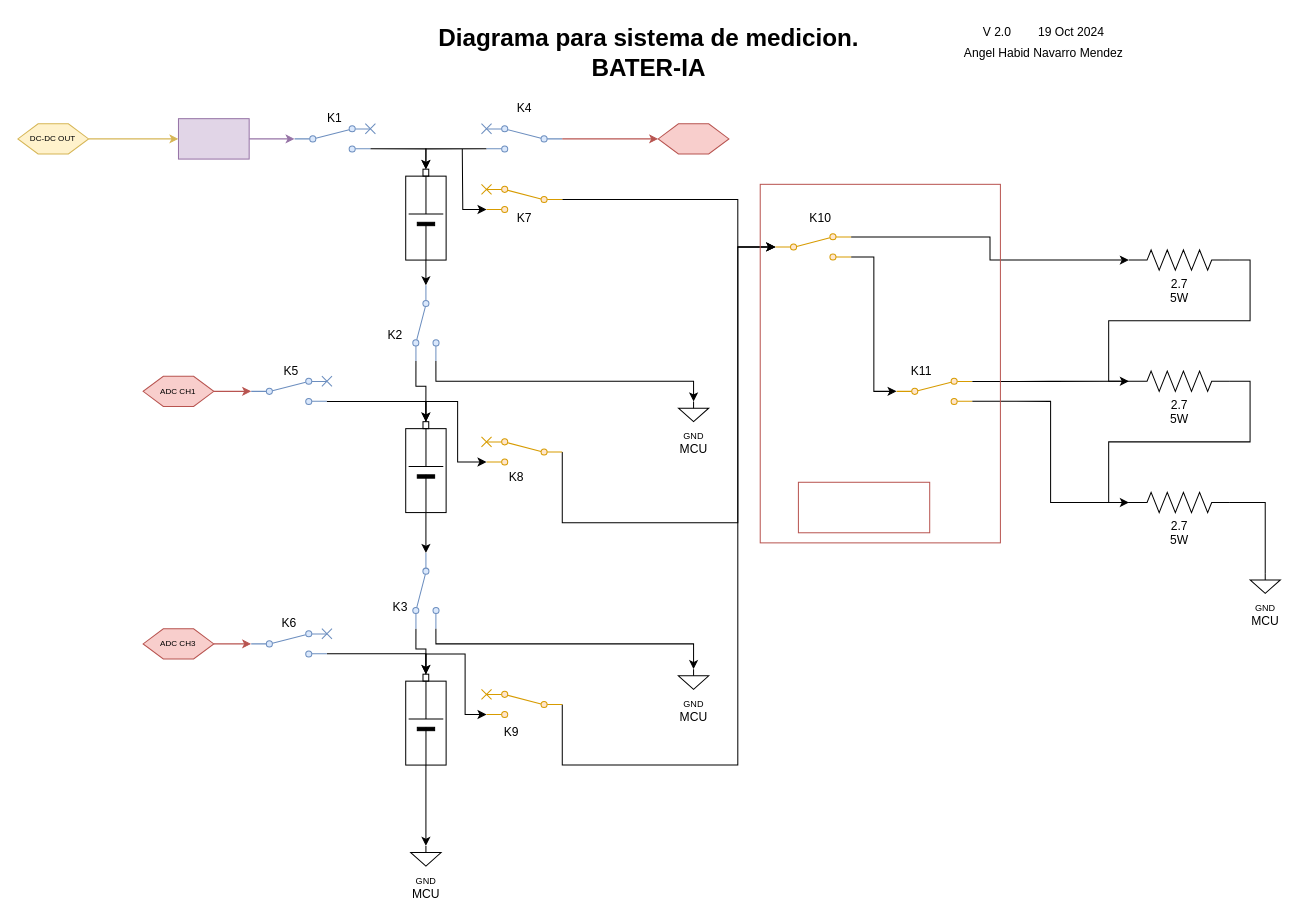
Image size: 1298x919. Some labels were removed from this diagram. Each missing label, with the box of its shape:
ADC CH0: (657, 123, 729, 154)
INA226: (177, 118, 249, 159)
No implement yet.: (797, 481, 930, 533)
